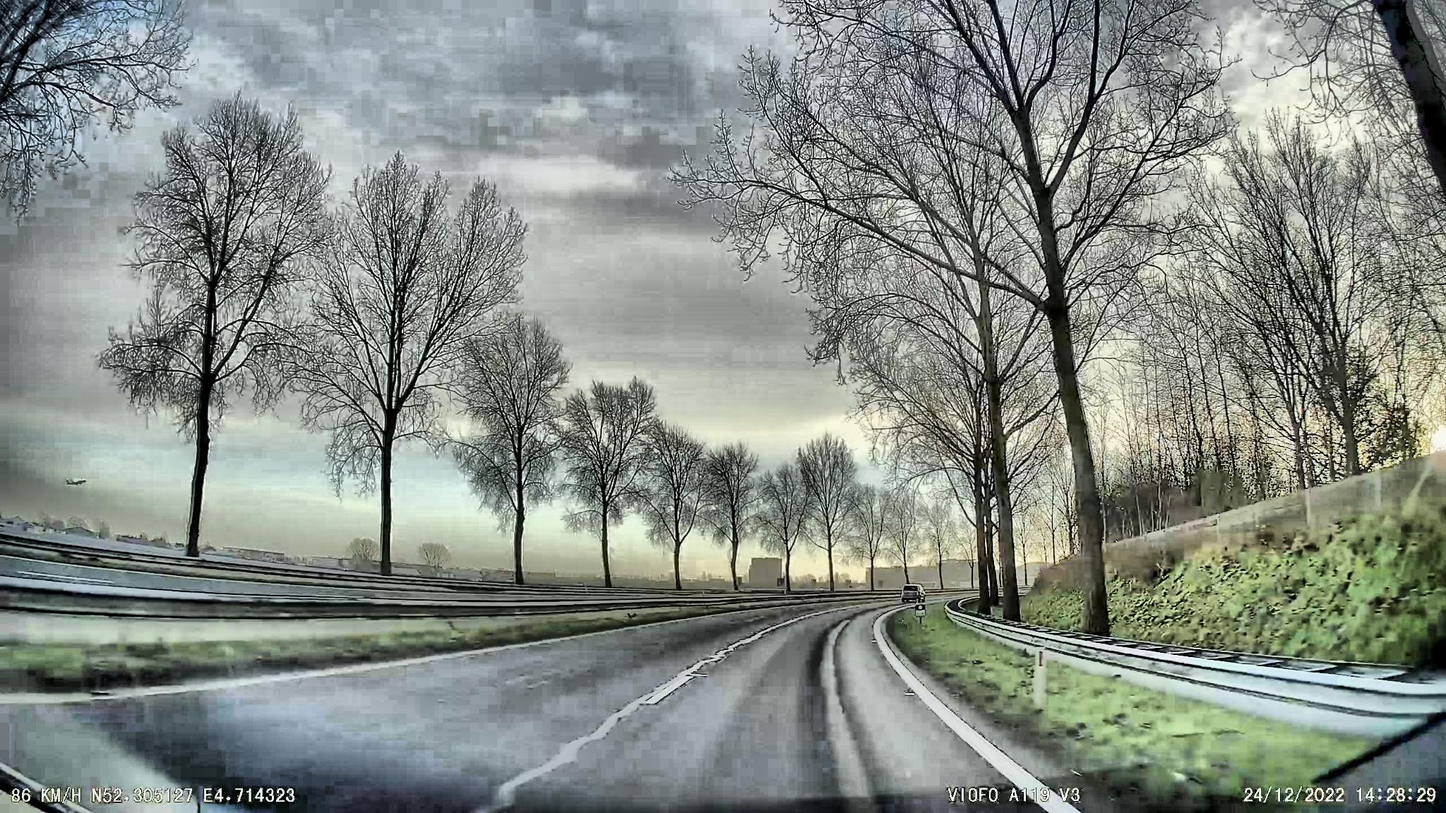Roads: (0, 607, 1046, 813)
